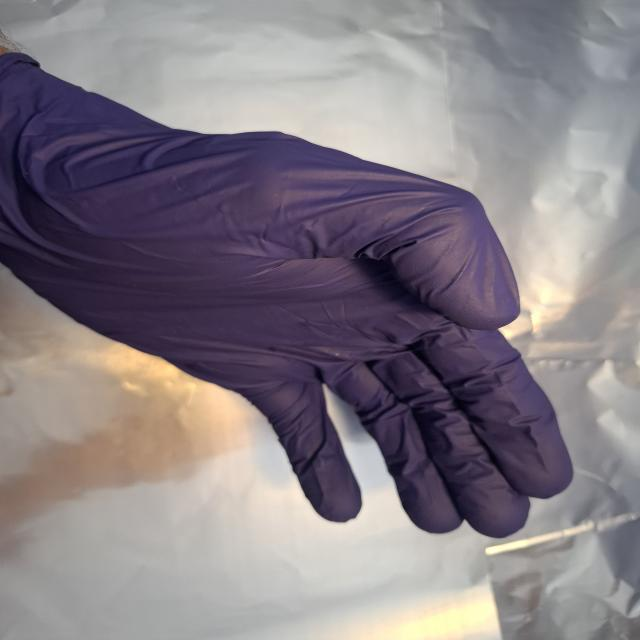glove_on: (0, 50, 578, 541)
